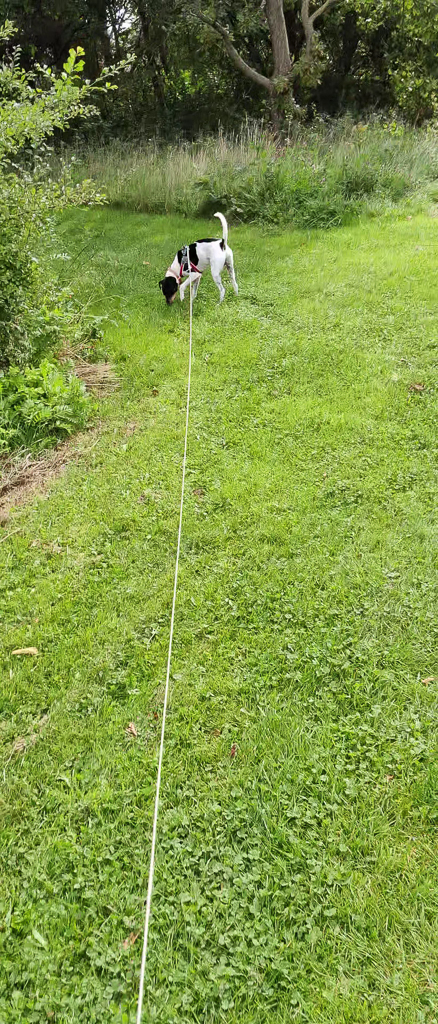Dog: (150, 204, 246, 314)
